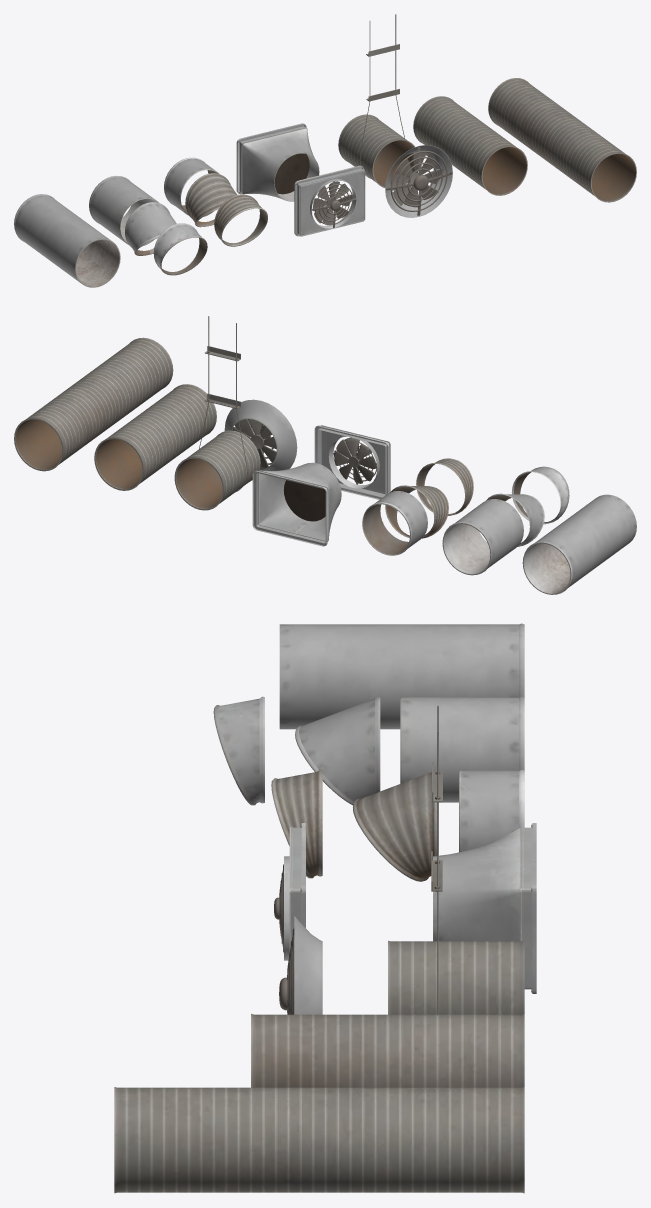
File: airduct.glb
3 views of the same model, one above another, from view 1: azimuth 30°, elevation 25°; view 2: azimuth 150°, elevation 25°; view 3: azimuth 270°, elevation 25° (orthographic). The views are drawn at different scales.
Visible parts, largest first — view 1: modular_airduct_circular_triple, modular_airduct_circular_double, modular_airduct_circular_smooth_triple, modular_airduct_rectangular_converter, modular_airduct_rectangular_vent_fan, modular_airduct_circular_fan, modular_airduct_circular_single, modular_airduct_circular_smooth_double, modular_airduct_circular_bend_half, modular_airduct_circular_smooth_bend_half, modular_airduct_circular_bend_quater, modular_airduct_circular_smooth_bend_quater (+1 smaller); view 2: modular_airduct_circular_triple, modular_airduct_circular_double, modular_airduct_circular_smooth_triple, modular_airduct_rectangular_converter, modular_airduct_circular_single, modular_airduct_circular_smooth_double, modular_airduct_rectangular_vent_fan, modular_airduct_circular_fan, modular_airduct_circular_smooth_single, modular_airduct_circular_bend_half, modular_airduct_circular_bend_quater, modular_airduct_circular_smooth_bend_quater (+2 smaller); view 3: modular_airduct_circular_triple, modular_airduct_circular_smooth_triple, modular_airduct_circular_double, modular_airduct_rectangular_converter, modular_airduct_circular_single, modular_airduct_circular_smooth_double, modular_airduct_circular_smooth_bend_half, modular_airduct_circular_bend_half, modular_airduct_circular_smooth_single, modular_airduct_circular_smooth_bend_quater, modular_airduct_circular_bend_quater, modular_airduct_circular_fan (+1 smaller).
Boxes of the visible parts, bbox=[...] form: modular_airduct_circular_triple: bbox=[488, 78, 636, 202]; modular_airduct_circular_double: bbox=[413, 96, 527, 195]; modular_airduct_circular_smooth_triple: bbox=[14, 194, 120, 287]; modular_airduct_rectangular_converter: bbox=[236, 123, 319, 201]; modular_airduct_rectangular_vent_fan: bbox=[294, 165, 365, 236]; modular_airduct_circular_fan: bbox=[385, 145, 452, 217]; modular_airduct_circular_single: bbox=[338, 114, 414, 187]; modular_airduct_circular_smooth_double: bbox=[89, 175, 158, 246]; modular_airduct_circular_bend_half: bbox=[185, 173, 236, 227]; modular_airduct_circular_smooth_bend_half: bbox=[125, 202, 176, 255]; modular_airduct_circular_bend_quater: bbox=[214, 194, 267, 246]; modular_airduct_circular_smooth_bend_quater: bbox=[153, 223, 207, 275]; modular_airduct_circular_triple: bbox=[14, 337, 173, 471]; modular_airduct_circular_double: bbox=[94, 384, 216, 490]; modular_airduct_circular_smooth_triple: bbox=[522, 494, 636, 594]; modular_airduct_rectangular_converter: bbox=[252, 462, 341, 546]; modular_airduct_circular_single: bbox=[174, 430, 260, 510]; modular_airduct_circular_smooth_double: bbox=[442, 499, 523, 575]; modular_airduct_rectangular_vent_fan: bbox=[314, 425, 390, 499]; modular_airduct_circular_fan: bbox=[224, 399, 297, 470]; modular_airduct_circular_smooth_single: bbox=[362, 491, 427, 555]; modular_airduct_circular_bend_half: bbox=[385, 485, 448, 538]; modular_airduct_circular_bend_quater: bbox=[416, 458, 473, 515]; modular_airduct_circular_smooth_bend_quater: bbox=[511, 466, 569, 524]; modular_airduct_circular_triple: bbox=[114, 1087, 524, 1193]; modular_airduct_circular_smooth_triple: bbox=[279, 623, 524, 729]; modular_airduct_circular_double: bbox=[251, 1013, 524, 1087]; modular_airduct_rectangular_converter: bbox=[433, 823, 536, 993]; modular_airduct_circular_single: bbox=[388, 940, 524, 1014]; modular_airduct_circular_smooth_double: bbox=[400, 696, 524, 802]; modular_airduct_circular_smooth_bend_half: bbox=[295, 696, 380, 805]; modular_airduct_circular_bend_half: bbox=[353, 769, 437, 881]; modular_airduct_circular_smooth_single: bbox=[459, 770, 524, 852]; modular_airduct_circular_smooth_bend_quater: bbox=[213, 696, 264, 805]; modular_airduct_circular_bend_quater: bbox=[271, 770, 322, 878]; modular_airduct_circular_fan: bbox=[279, 916, 322, 1014].
Size of the model in its own units: 4.17 by 1.32 by 1.46.
2 materials, 2 textured.
